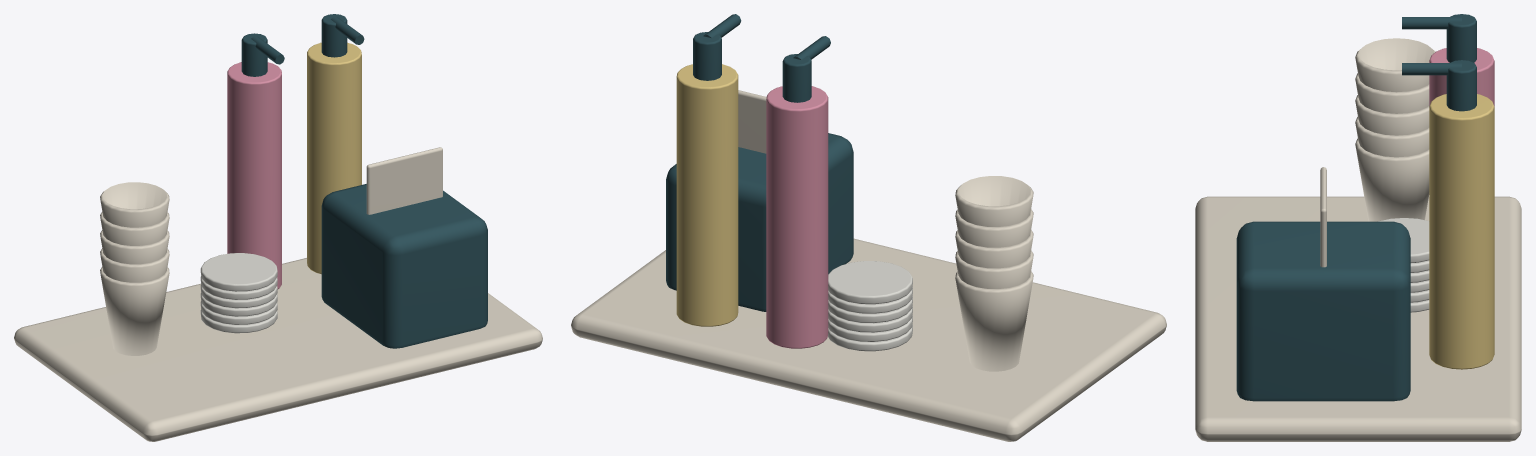
The model's file is ce_supplies.glb.
3 renders of one model, left to right at view 1: azimuth 30°, elevation 25°; view 2: azimuth 150°, elevation 25°; view 3: azimuth 270°, elevation 25°, orthographic. The views are drawn at different scales.
Visible parts, largest first — view 1: prop; view 2: prop; view 3: prop.
Part boxes in pixels (<box>): prop: <box>14,14,542,441</box>; prop: <box>571,14,1166,441</box>; prop: <box>1195,14,1521,441</box>.
Bounding box in the file's own units: 0.5 × 0.33 × 0.3.
